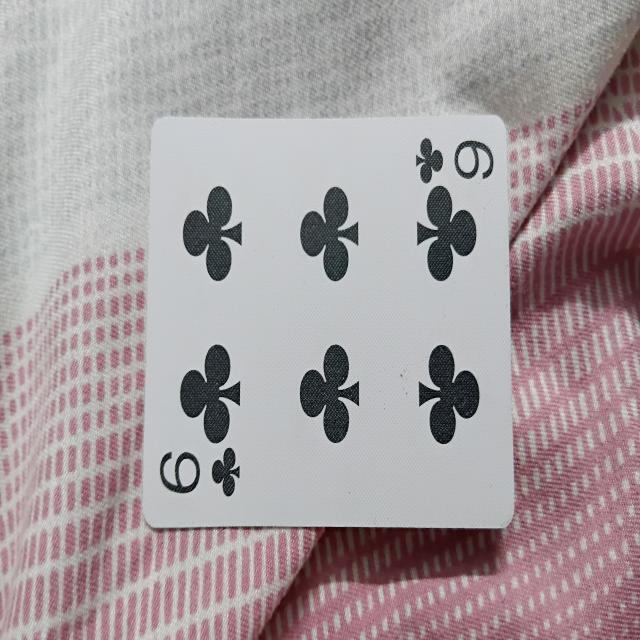6C: (144, 112, 508, 532)
